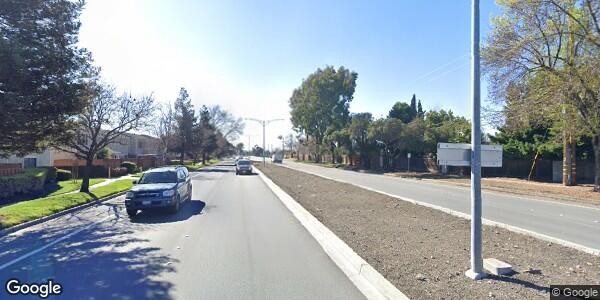Steel_Pole: (468, 1, 488, 282), (241, 116, 285, 168)
